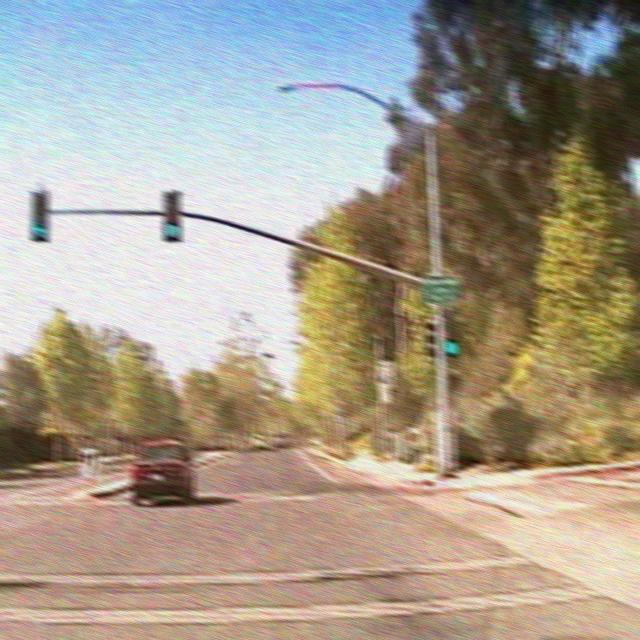speedLimit40: (375, 358, 395, 386)
